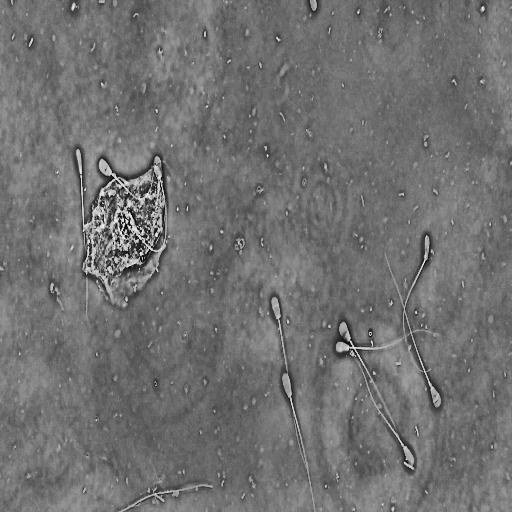dirt-particles: (81, 158, 171, 309)
loose-tail: (118, 478, 216, 512)
normal: (382, 246, 443, 411), (348, 349, 417, 471), (337, 318, 400, 436), (270, 294, 307, 472), (280, 368, 317, 512), (402, 230, 433, 374), (97, 155, 173, 203), (333, 326, 441, 356), (75, 144, 90, 323)
